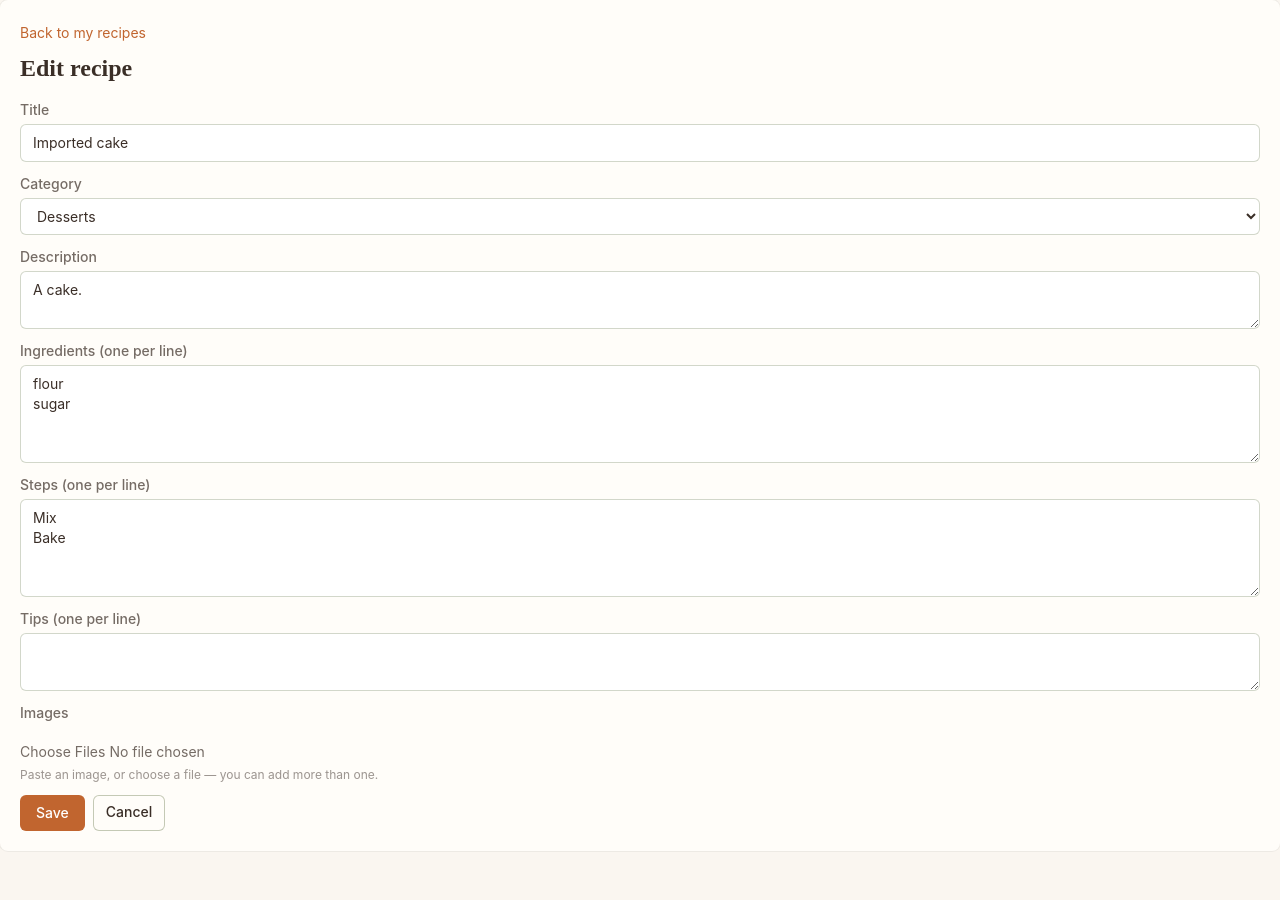
Test: RecipeEditPage › shows an error if saving fails
The image size is (1280, 900).
Expected: the field showing "Imported cake" is shown, x1=20 y1=124 x2=1260 y2=162
Click the button "Save" at (52, 813), box x1=20 y1=795 x2=85 y2=831
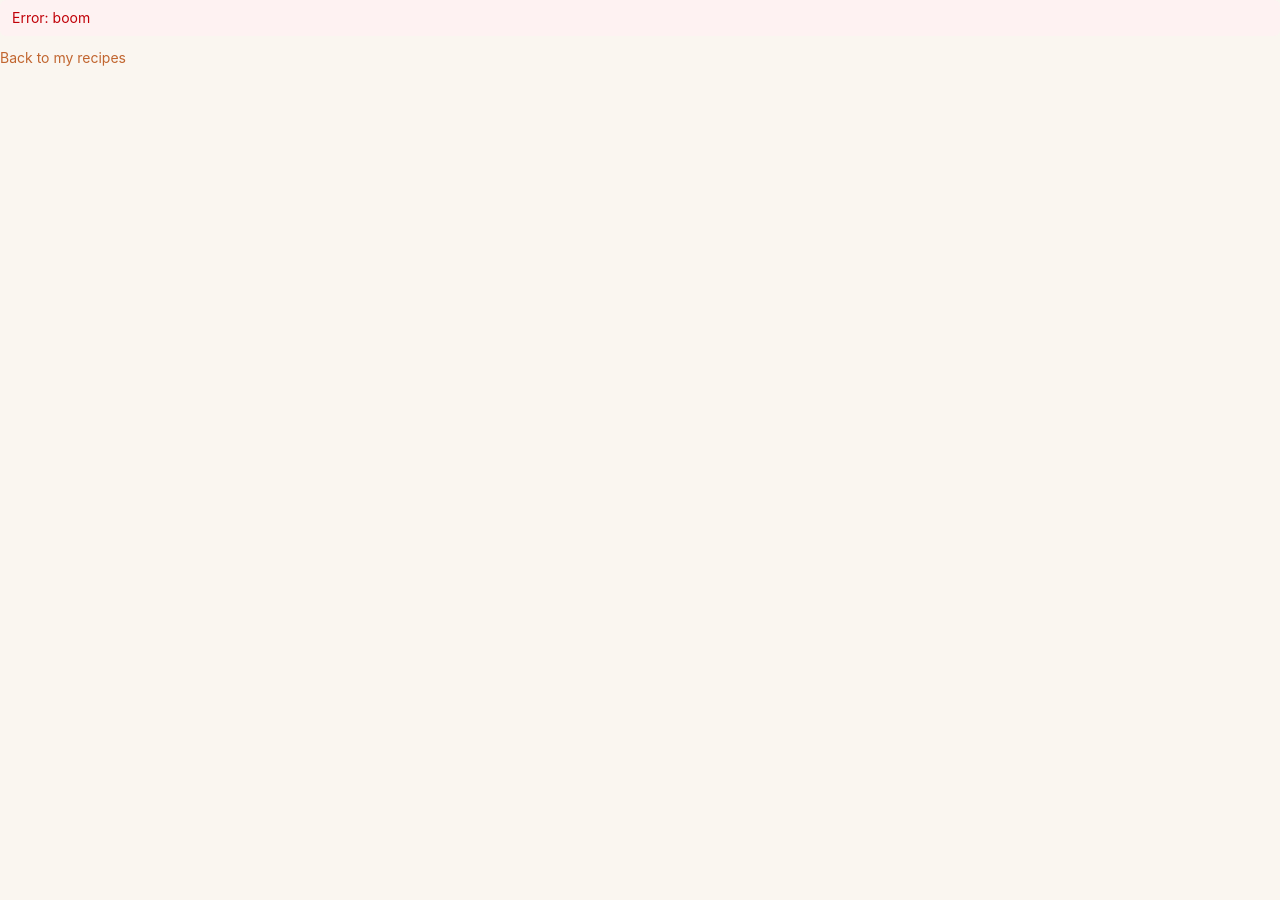
Expected: the message shows "boom", x1=12 y1=9 x2=90 y2=26
